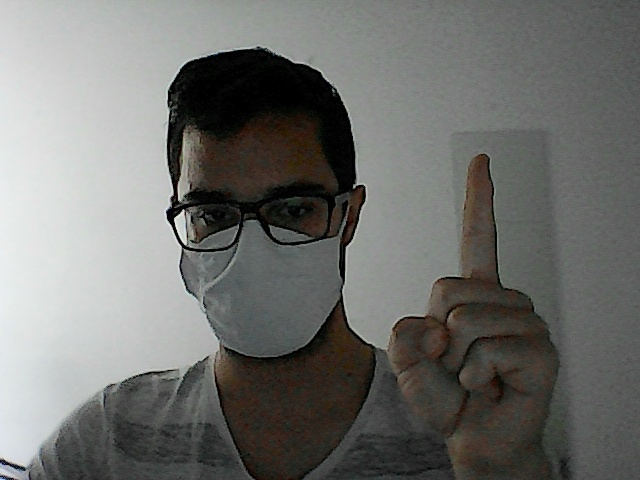up: (372, 141, 578, 458)
